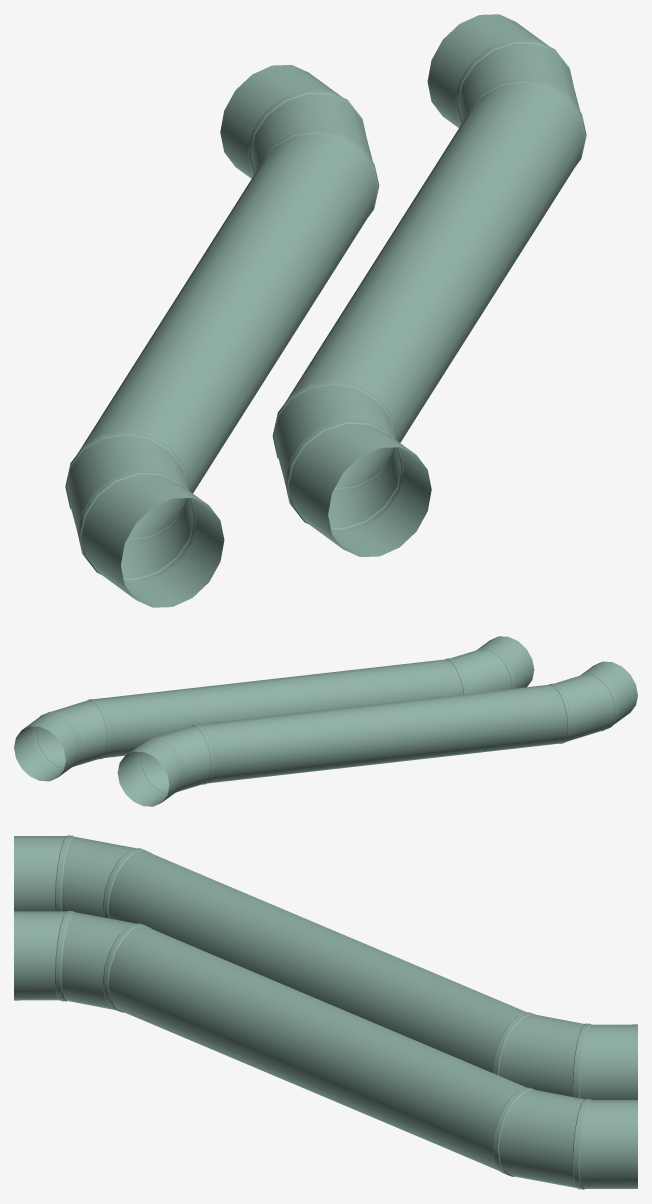
The model's file is PipeComplexLarge_B_13.fbx.
3 views of the same model, one above another, from view 1: azimuth 30°, elevation 25°; view 2: azimuth 150°, elevation 25°; view 3: azimuth 270°, elevation 25° (orthographic). The views are drawn at different scales.
Visible parts, largest first — view 1: PipeComplexLarge_B_13.001; view 2: PipeComplexLarge_B_13.001; view 3: PipeComplexLarge_B_13.001.
Part boxes in pixels (x1,y1,x2,y2): PipeComplexLarge_B_13.001: [65, 14, 586, 607]; PipeComplexLarge_B_13.001: [14, 636, 637, 806]; PipeComplexLarge_B_13.001: [14, 835, 637, 1189].
Bounding box in the file's own units: 1.6 × 0.2028 × 1.4.
